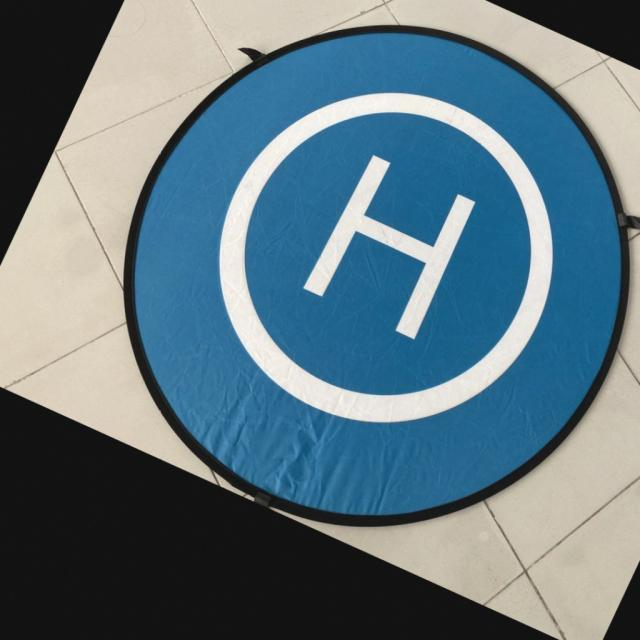helipad: (214, 88, 555, 425)
